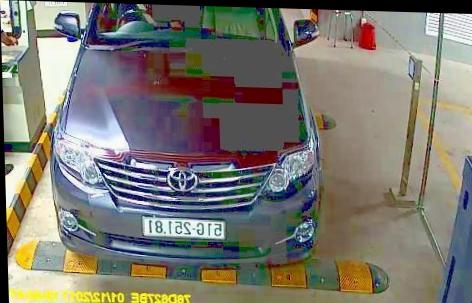License_Plate: (143, 215, 225, 240)
